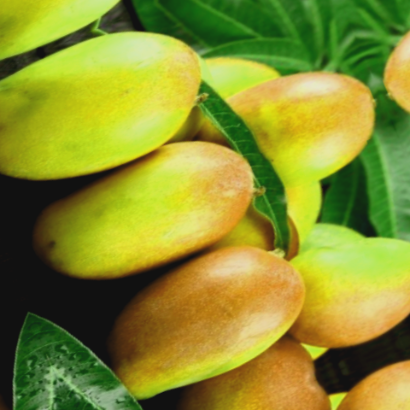mango: (56, 206, 351, 410), (10, 115, 274, 324), (0, 0, 246, 222), (186, 32, 407, 229)
